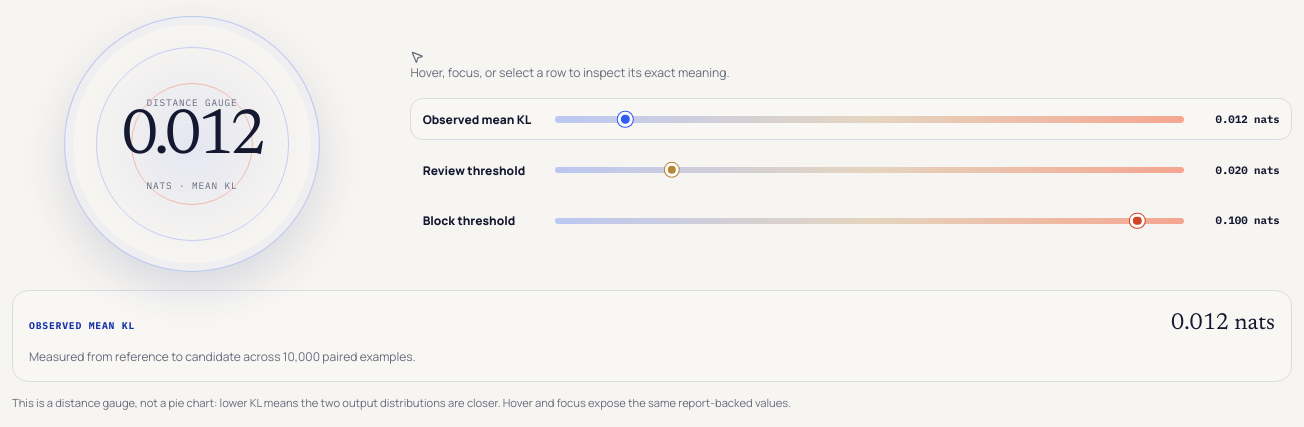
Test: interactive report evidence › explains observed KL and both policy thresholds with keyboard focus
Step 1. Focus the button with aria-label "Review threshold:" → (851, 170), box [410,149,1292,191]
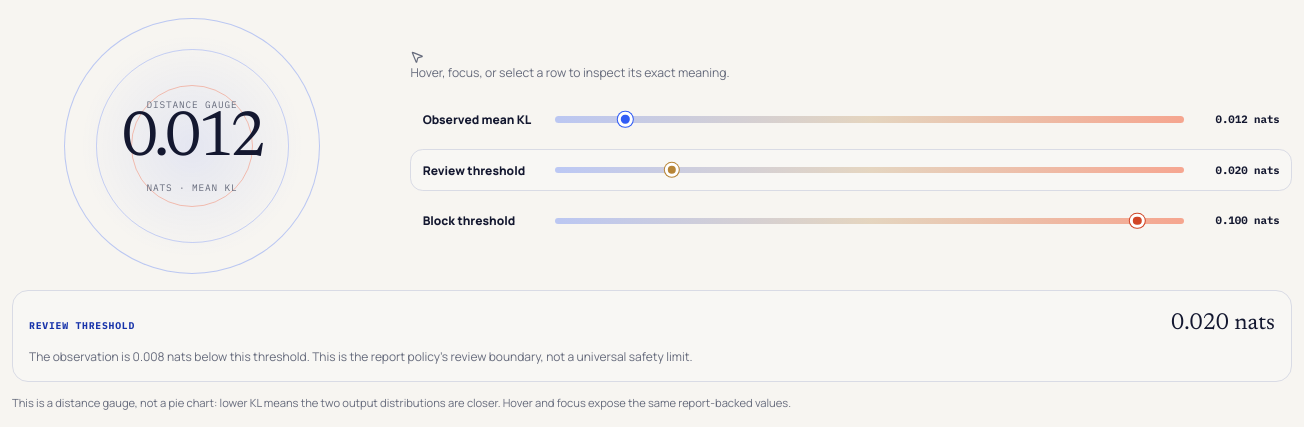
Now the message shows "Review threshold", box [29,319,135,332]
Now the message shows "0.020 nats", box [12,290,1292,382]
Now the message shows "0.008 nats below", box [29,348,693,365]
Step 2. Click the button with aria-label "Block threshold:" → (851, 221), box [410,200,1292,242]
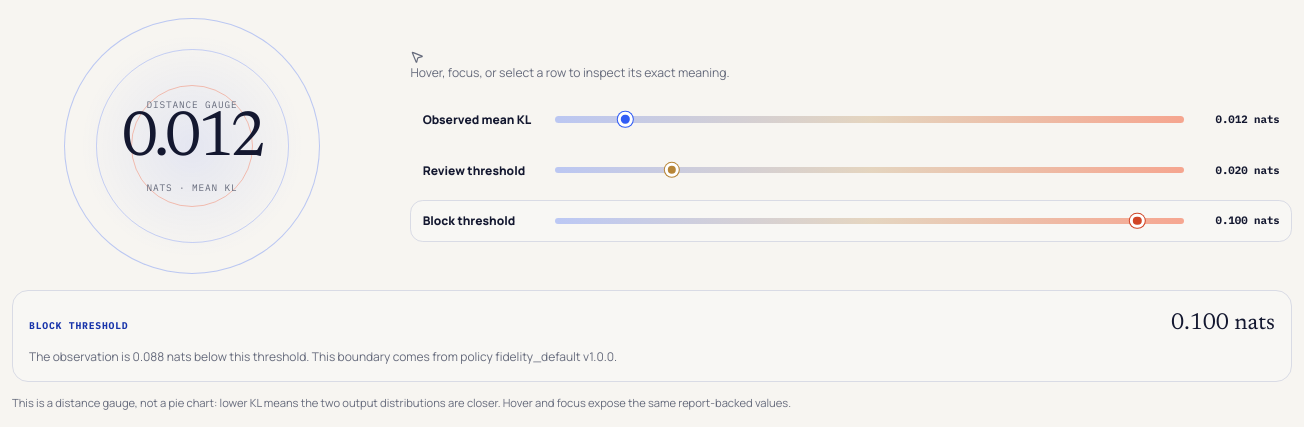
Now the message shows "0.100 nats", box [12,290,1292,382]
Now the message shows "0.088 nats below", box [29,348,617,365]
